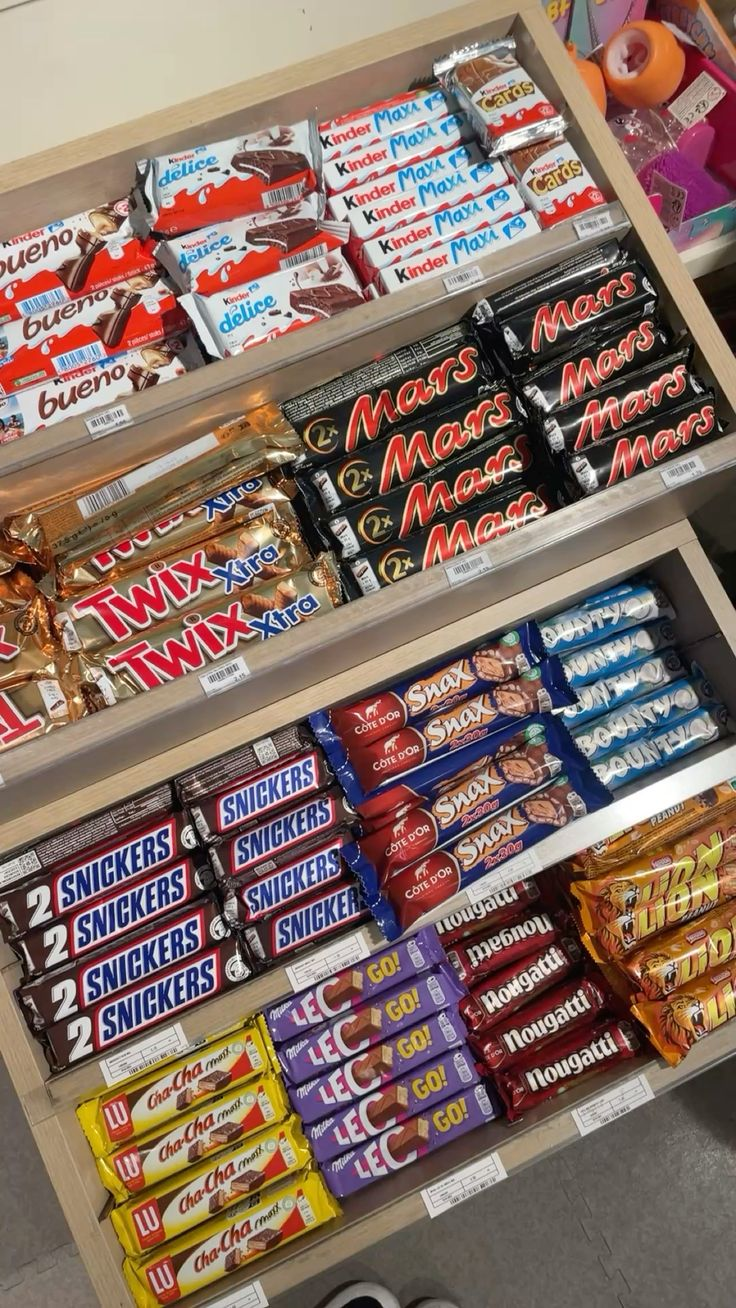Mars: (334, 307, 487, 460)
Snickers: (74, 882, 206, 1015), (208, 729, 324, 845)
